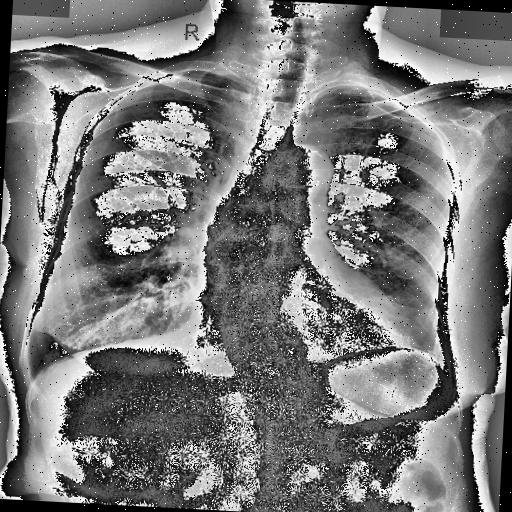0- Aortic enlargement: (264, 138, 331, 204), (266, 138, 337, 192), (269, 142, 333, 188)
11- Pleural thickening: (368, 88, 411, 112)
3- Cardiomegaly: (179, 284, 417, 378), (189, 276, 422, 364), (186, 296, 420, 380)
9- Other lesion: (189, 242, 336, 454), (184, 188, 318, 390), (208, 146, 317, 382)
